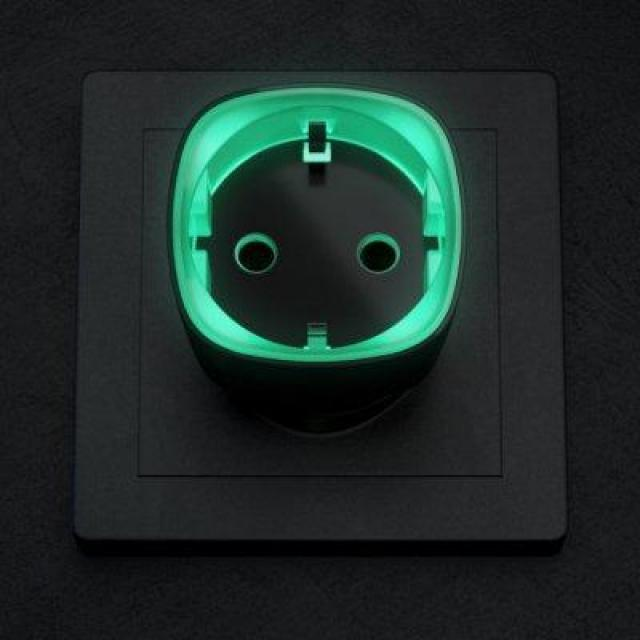typeb: (97, 39, 524, 469)
